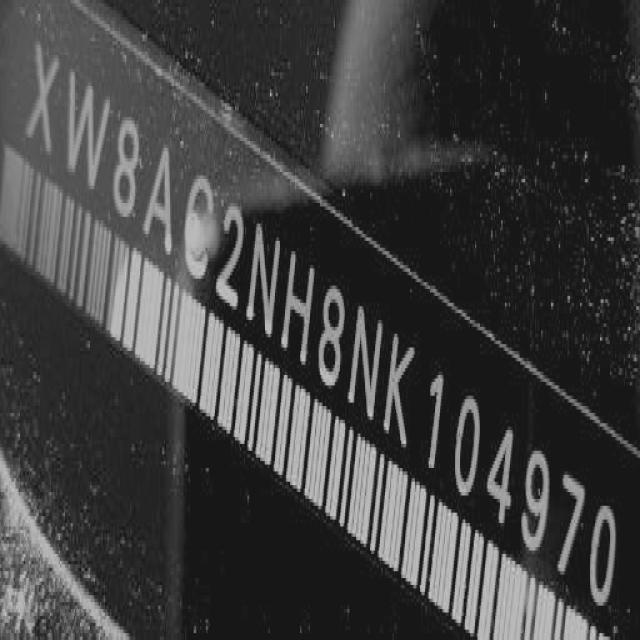0: (449, 377, 487, 514), (583, 491, 622, 624)
1: (419, 370, 450, 484)
2: (214, 187, 250, 319)
4: (482, 408, 523, 544)
7: (548, 465, 591, 600)
8: (105, 101, 147, 231), (312, 265, 350, 400)
9: (517, 431, 556, 570)
A: (140, 130, 181, 261)
C: (176, 158, 221, 298)
H: (278, 238, 319, 376)
K: (380, 322, 420, 461)
N: (344, 294, 388, 432), (244, 213, 287, 348)
W: (58, 57, 115, 205)
X: (19, 28, 67, 171)
